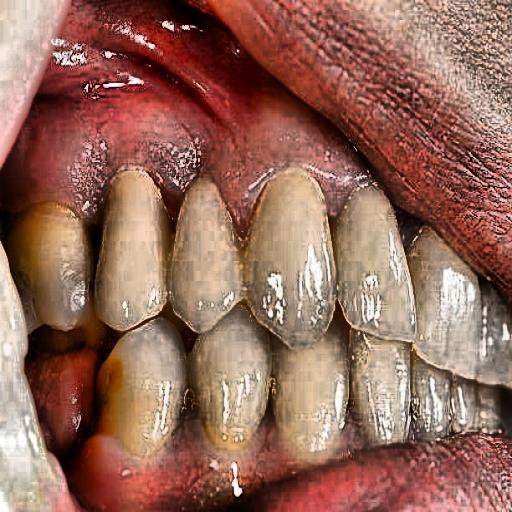Gingivitis: (222, 78, 386, 238), (16, 77, 206, 210)
